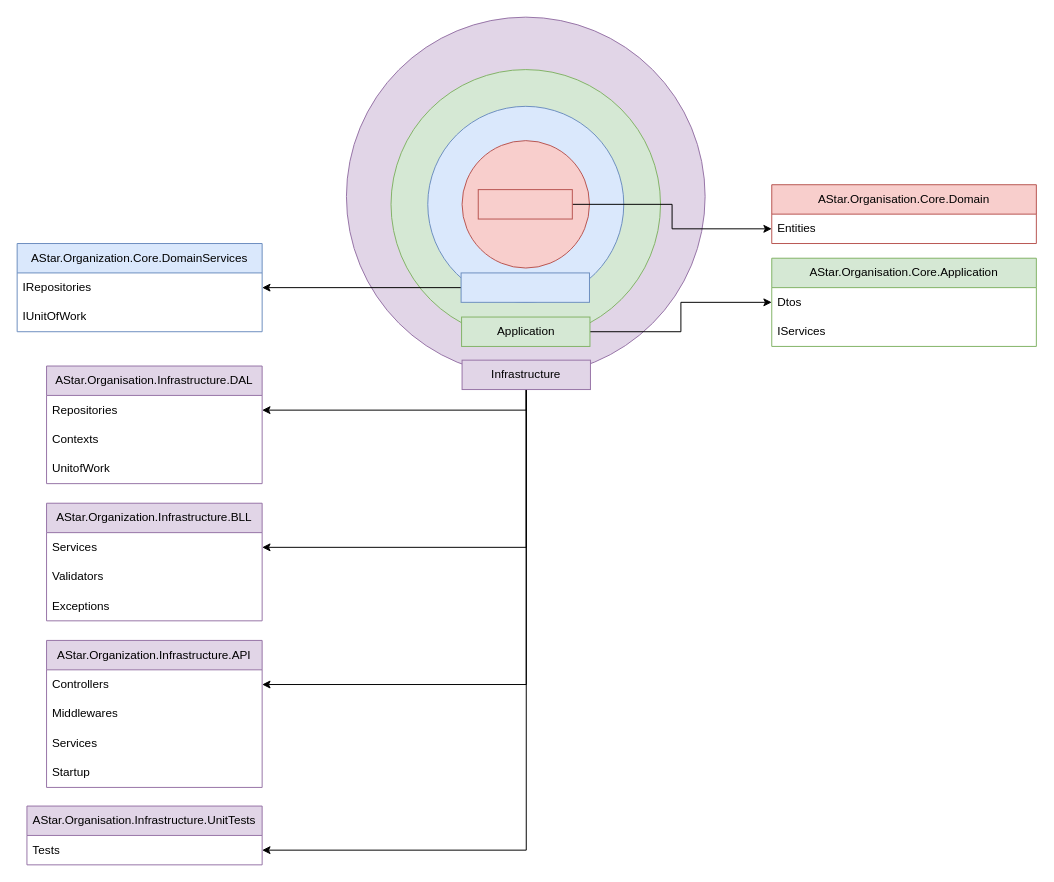
Some shapes in this 1054 by 882 pixel diagram are drawn without their labels. Each missing label, with the centre of its shape:
Domain: point (524, 204)
DomainServices: point (524, 287)
